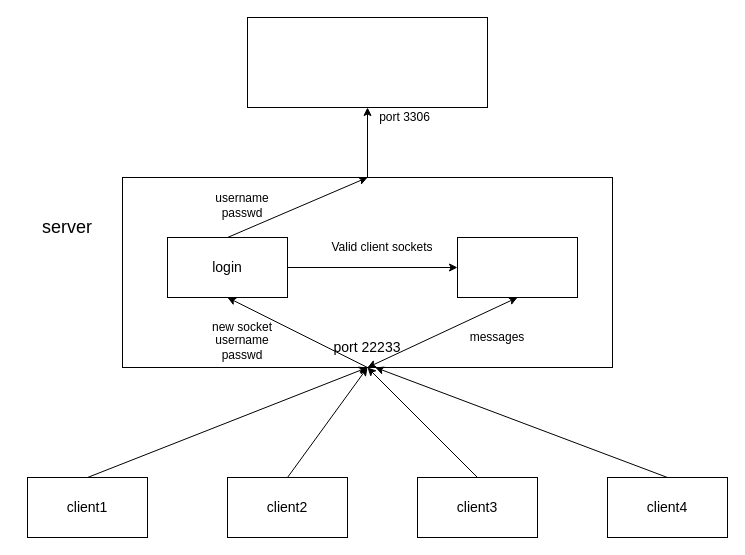
Some shapes in this 745 by 555 pixel diagram are drawn without their labels. The shapes that lost their labels are listed below. From the top down, each one's centre as x and y in pixels, then its label:
At (x=367, y=62): "MySql Server".
At (x=517, y=267): "message_router".
